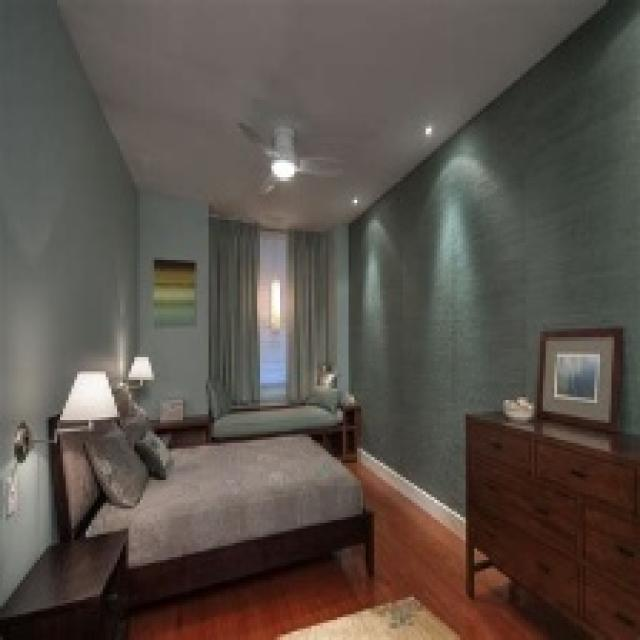Bed: (46, 380, 374, 611)
